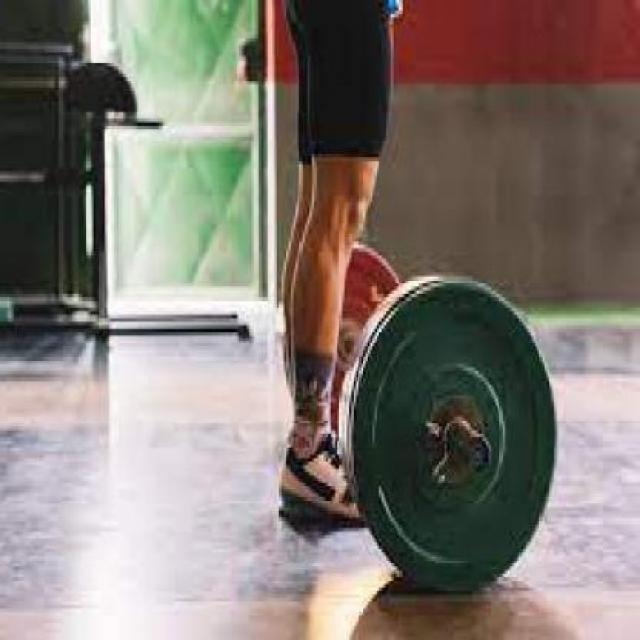Barbell: (462, 423, 496, 483)
